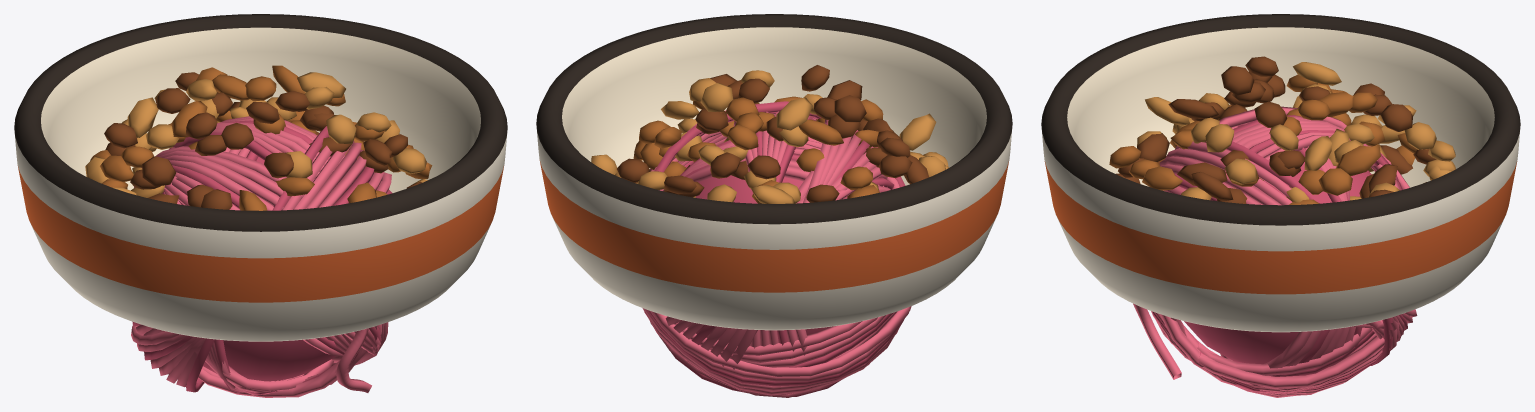
Rendered from toys.glb.
3 views of the same model, side by side, from view 1: azimuth 30°, elevation 25°; view 2: azimuth 150°, elevation 25°; view 3: azimuth 270°, elevation 25° (orthographic). The views are drawn at different scales.
Parts seen in each view (by area): view 1: Bowl, Yarn, Kibble_3, Kibble_2; view 2: Bowl, Yarn, Kibble_3, Kibble_2; view 3: Bowl, Yarn, Kibble_3, Kibble_2, Kibble_1.
Boxes of the visible parts, x1,y1,x2,y2 form: Bowl: (14,14,507,341); Yarn: (131,116,392,397); Kibble_3: (100,65,426,203); Kibble_2: (85,97,432,210); Bowl: (536,14,1012,330); Yarn: (642,101,911,397); Kibble_3: (591,65,945,203); Kibble_2: (615,94,949,203); Bowl: (1041,14,1520,332); Yarn: (1133,106,1417,397); Kibble_3: (1109,56,1455,201); Kibble_2: (1118,96,1455,204); Kibble_1: (1116,144,1414,200).
Size of the model in its own units: 0.13 by 0.0901 by 0.13.
